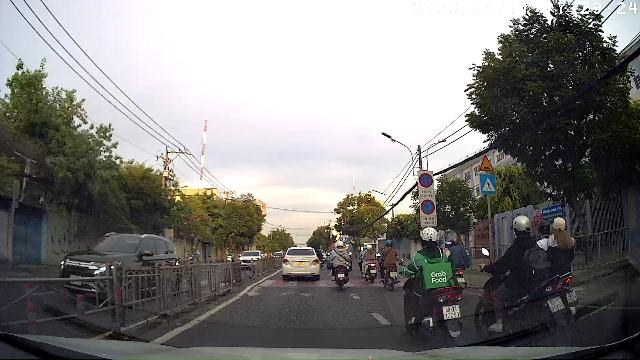130-cam-dung-va-do-xe: (418, 173, 433, 188)
131a-cam-do-xe: (420, 199, 436, 215)
423a-duong-nguoi-di-bo-sang-ngang-1: (480, 174, 497, 194)
